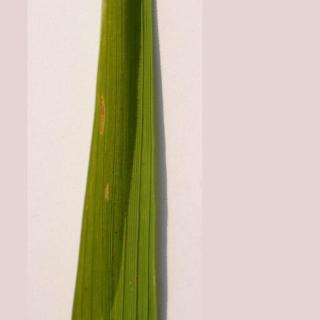Hawar-Daun: (94, 172, 130, 216), (94, 90, 115, 151)
